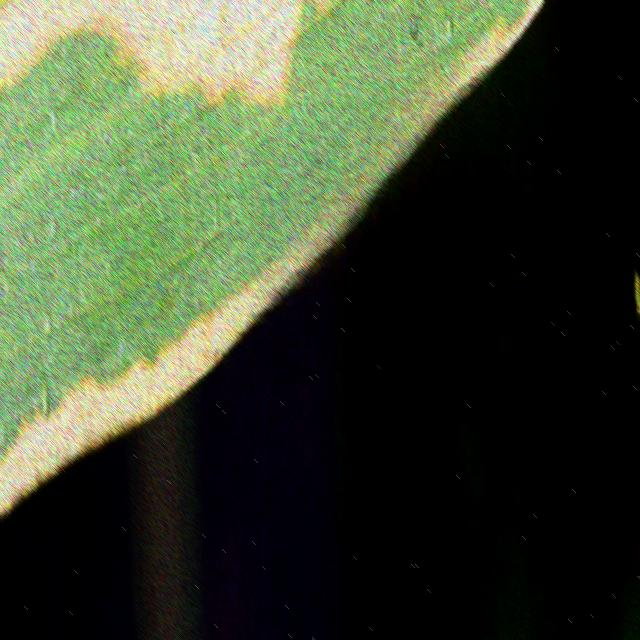BLB: (1, 0, 543, 509), (1, 0, 326, 117)
